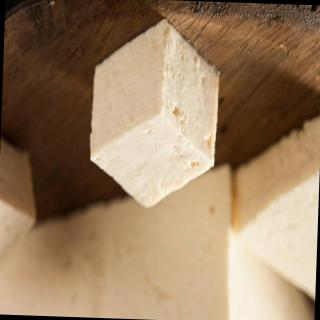Tahu: (1, 153, 314, 320), (76, 17, 230, 213), (225, 103, 320, 305), (1, 130, 36, 285)
